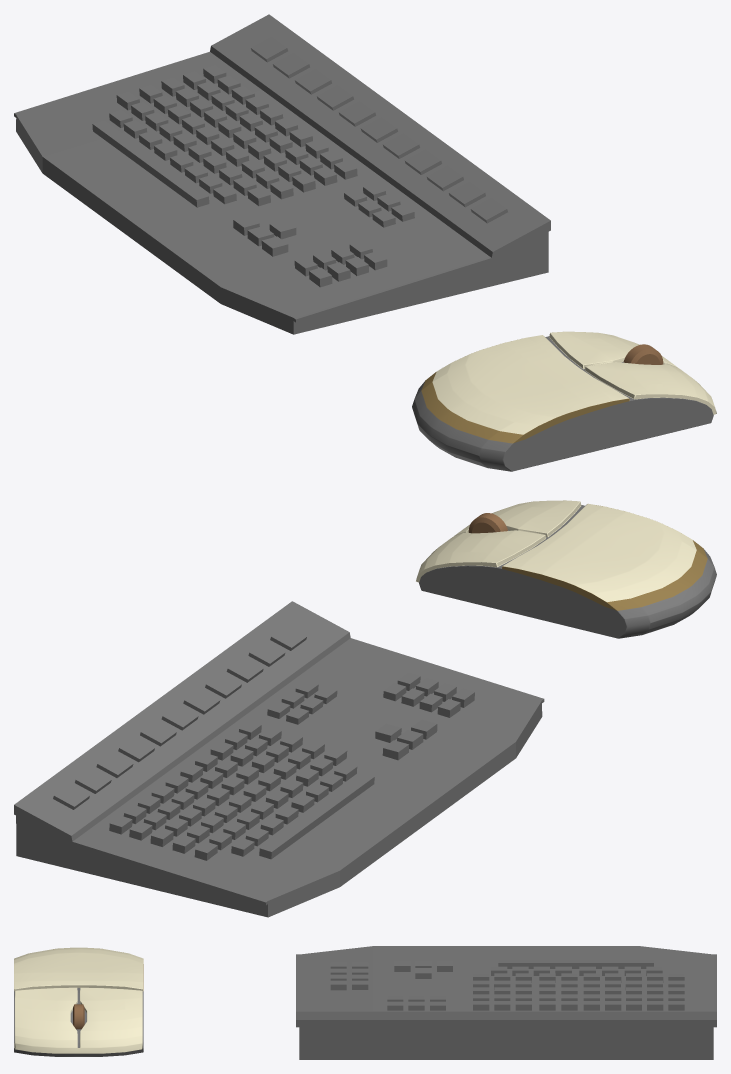
Rendered from Keyboard&Mouse_tier10.fbx.
3 renders of one model, top to bottom at view 1: azimuth 30°, elevation 25°; view 2: azimuth 150°, elevation 25°; view 3: azimuth 270°, elevation 25°, orthographic. The views are drawn at different scales.
Parts seen in each view (by area): view 1: Cube, Cylinder.002, Cube.003, Cube.008, Cube.001, Cube.007, Cube.006, Cube.004, Cube.005; view 2: Cube, Cylinder.002, Cube.003, Cube.008, Cube.001, Cube.007, Cube.006, Cube.004, Cube.005; view 3: Cube, Cylinder.002, Cube.003, Cube.001, Cube.008, Cube.007, Cube.006, Cube.004, Cube.005, Cylinder.001.
Part boxes in pixels (bbox=[...]): Cube: bbox=[14, 14, 550, 334]; Cylinder.002: bbox=[412, 331, 716, 471]; Cube.003: bbox=[116, 65, 357, 205]; Cube.008: bbox=[251, 36, 507, 223]; Cube.001: bbox=[92, 109, 236, 207]; Cube.007: bbox=[294, 241, 387, 287]; Cube.006: bbox=[233, 215, 296, 256]; Cube.004: bbox=[363, 183, 414, 221]; Cube.005: bbox=[344, 189, 395, 227]; Cube: bbox=[14, 601, 544, 917]; Cylinder.002: bbox=[416, 500, 716, 638]; Cube.003: bbox=[109, 721, 347, 860]; Cube.008: bbox=[53, 625, 306, 809]; Cube.001: bbox=[231, 763, 374, 859]; Cube.007: bbox=[383, 672, 474, 717]; Cube.006: bbox=[375, 719, 437, 760]; Cube.004: bbox=[267, 680, 318, 718]; Cube.005: bbox=[286, 686, 337, 724]; Cube: bbox=[296, 946, 716, 1059]; Cylinder.002: bbox=[14, 947, 143, 1056]; Cube.003: bbox=[473, 973, 684, 1010]; Cube.001: bbox=[491, 959, 662, 975]; Cube.008: bbox=[333, 1011, 684, 1017]; Cube.007: bbox=[330, 962, 368, 990]; Cube.006: bbox=[394, 960, 452, 978]; Cube.004: bbox=[387, 1001, 445, 1010]; Cube.005: bbox=[387, 996, 445, 1001]; Cylinder.001: bbox=[73, 1004, 84, 1029].
Bounding box in the file's own units: 0.4024 × 0.0794 × 1.18.
